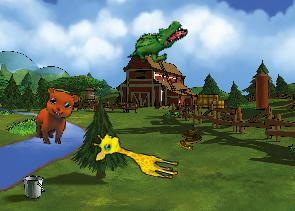bear: (34, 86, 80, 147)
crocodile: (125, 8, 190, 77)
giraffe: (89, 130, 183, 181)
